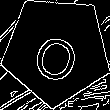O_N: (27, 19, 85, 82)
